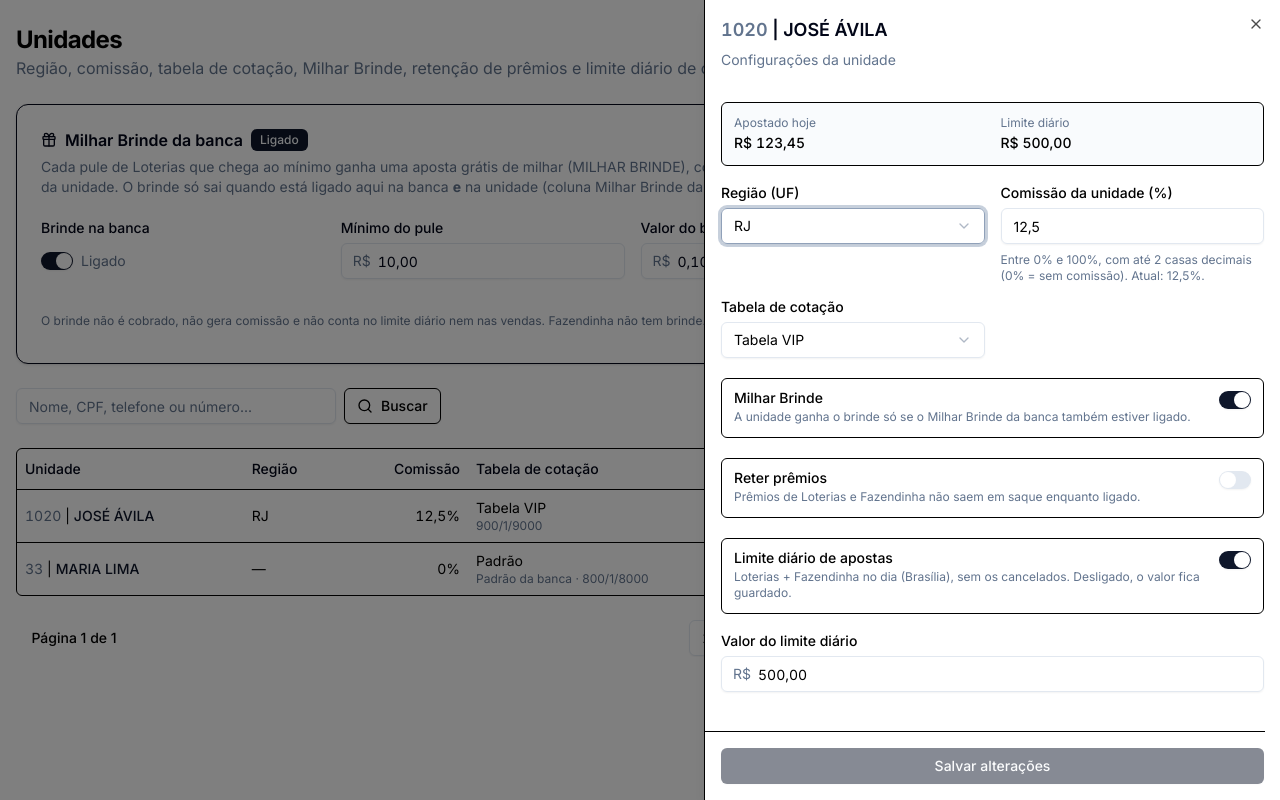
Test: Unidades: configurações da unidade › mostra o apostado hoje e o limite; salva só o que mudou
Expected: the heading "1020 | JOSÉ ÁVILA" is shown, [721,19,888,40]
Expected: the button "Salvar alterações" is disabled, [721,748,1264,784]
Replace the text in the field labelled "Comissão da unidade (%)" with "10" at (1132, 226), box [1000,208,1264,244]
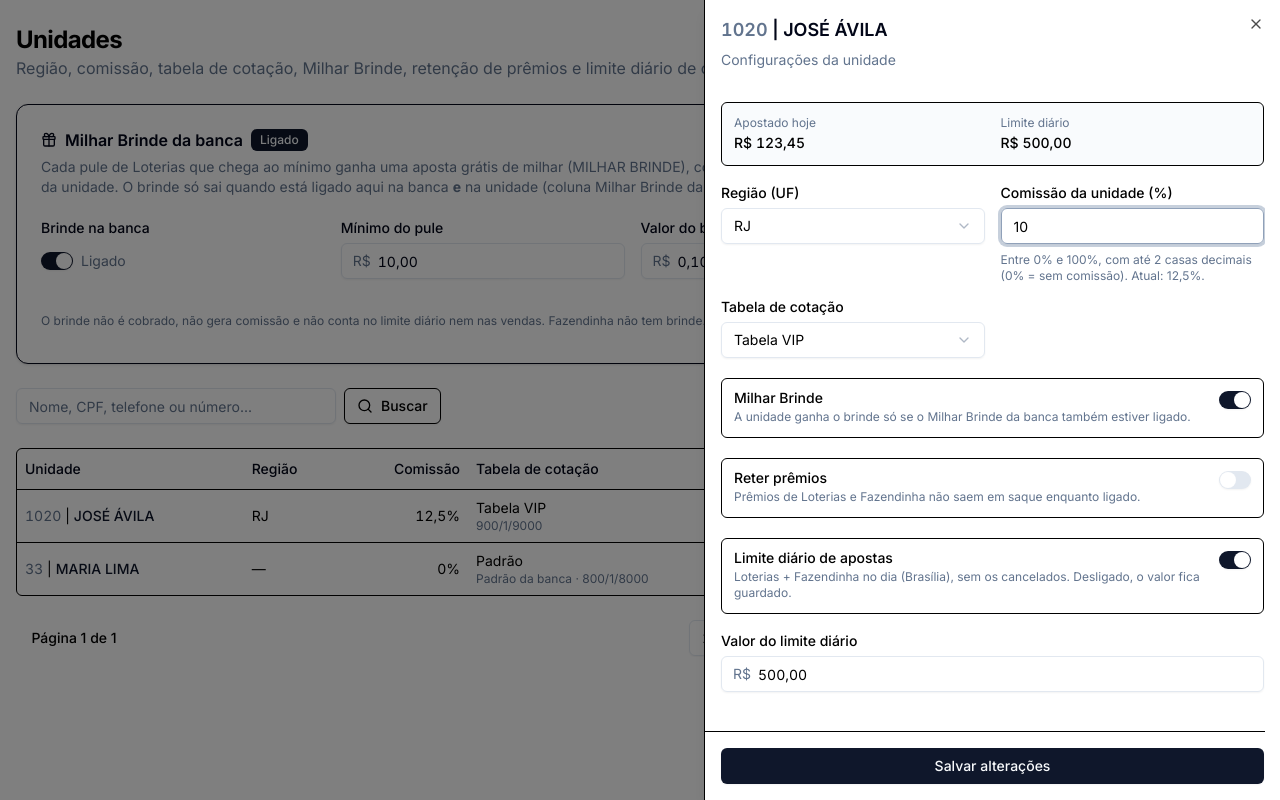
Click the 1st switch named "Milhar Brinde" at (1235, 400), box [1219,391,1251,409]
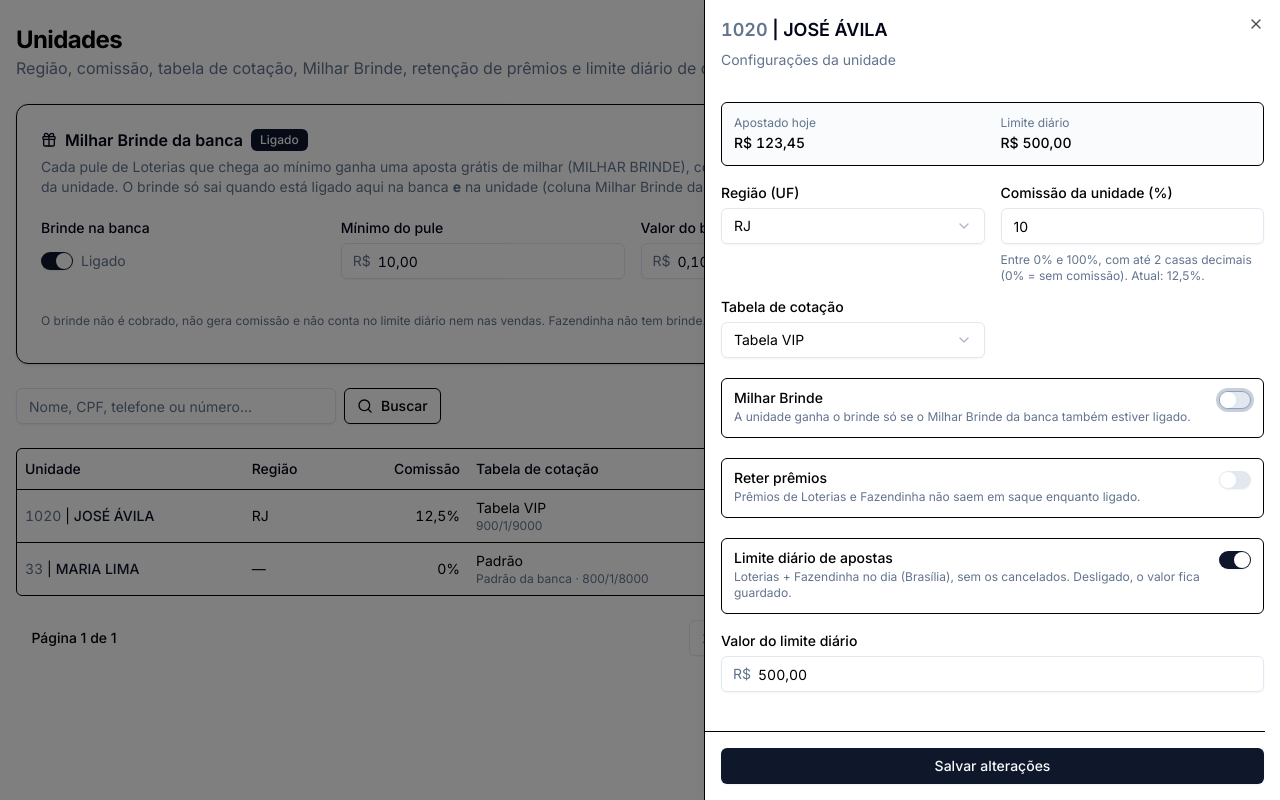
Click the button "Salvar alterações" at (992, 766), box [721,748,1264,784]
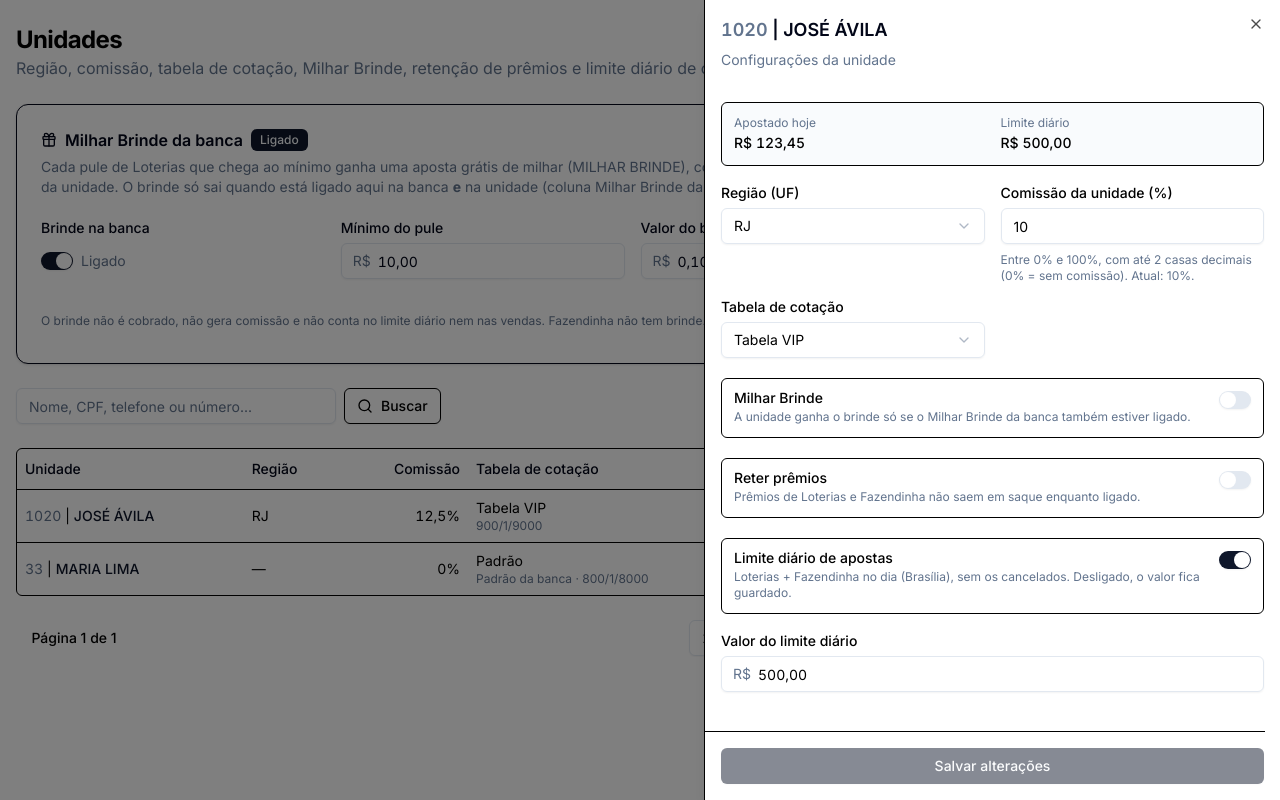
Expected: the 1st switch named "Milhar Brinde" is not checked, [1219,391,1251,409]
Expected: the button "Salvar alterações" is disabled, [721,748,1264,784]
